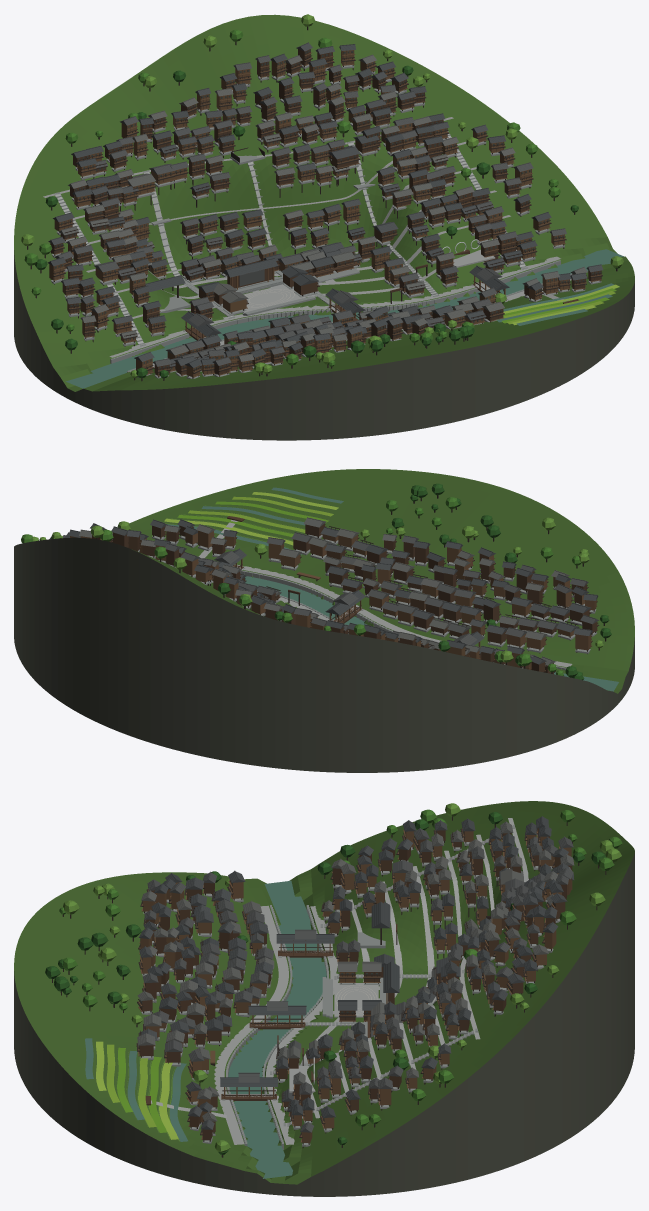
The model's file is xijiang-valley.glb.
3 views of the same model, one above another, from view 1: azimuth 30°, elevation 25°; view 2: azimuth 150°, elevation 25°; view 3: azimuth 270°, elevation 25° (orthographic). The views are drawn at different scales.
Parts seen in each view (by area): view 1: Earth • moss and soil.007, Cut earth • layered edge.007, Timber • warm variation.007, Timber • aged chestnut.007, Posts and balcony rails.007, River embankments • grey stone.007, Grey tile 0.007, Grey tile 2.007, Grey tile 1.007, Grey tile 3.007, Walking lanes • pale stone.007, Baishui River.007 (+9 smaller); view 2: Cut earth • layered edge.007, Earth • moss and soil.007, Timber • aged chestnut.007, Timber • warm variation.007, Grey tile 1.007, Grey tile 2.007, River embankments • grey stone.007, Grey tile 3.007, Grey tile 0.007, Baishui River.007, Forest 0.007, Forest 2.007 (+6 smaller); view 3: Earth • moss and soil.007, Cut earth • layered edge.007, Timber • warm variation.007, Timber • aged chestnut.007, Grey tile 0.007, Baishui River.007, Grey tile 1.007, Grey tile 2.007, Walking lanes • pale stone.007, Grey tile 3.007, River embankments • grey stone.007, Posts and balcony rails.007 (+9 smaller).
Boxes of the visible parts, x1=… form: Earth • moss and soil.007: x1=14, y1=14, x2=634, y2=391; Cut earth • layered edge.007: x1=14, y1=250, x2=634, y2=440; Timber • warm variation.007: x1=49, y1=50, x2=601, y2=377; Timber • aged chestnut.007: x1=50, y1=49, x2=601, y2=375; Posts and balcony rails.007: x1=27, y1=26, x2=617, y2=381; River embankments • grey stone.007: x1=51, y1=64, x2=601, y2=378; Grey tile 0.007: x1=47, y1=44, x2=571, y2=367; Grey tile 2.007: x1=59, y1=54, x2=587, y2=361; Grey tile 1.007: x1=54, y1=55, x2=566, y2=366; Grey tile 3.007: x1=48, y1=42, x2=603, y2=366; Walking lanes • pale stone.007: x1=43, y1=117, x2=571, y2=372; Baishui River.007: x1=66, y1=249, x2=623, y2=388; Cut earth • layered edge.007: x1=14, y1=537, x2=634, y2=772; Earth • moss and soil.007: x1=111, y1=469, x2=634, y2=693; Timber • aged chestnut.007: x1=109, y1=523, x2=597, y2=674; Timber • warm variation.007: x1=70, y1=526, x2=598, y2=671; Grey tile 1.007: x1=63, y1=532, x2=598, y2=654; Grey tile 2.007: x1=79, y1=517, x2=569, y2=665; River embankments • grey stone.007: x1=138, y1=534, x2=596, y2=670; Grey tile 3.007: x1=69, y1=519, x2=592, y2=664; Grey tile 0.007: x1=49, y1=523, x2=598, y2=654; Baishui River.007: x1=167, y1=487, x2=618, y2=691; Forest 0.007: x1=51, y1=483, x2=611, y2=680; Forest 2.007: x1=32, y1=505, x2=603, y2=662; Earth • moss and soil.007: x1=14, y1=801, x2=634, y2=1184; Cut earth • layered edge.007: x1=14, y1=853, x2=634, y2=1196; Timber • warm variation.007: x1=138, y1=828, x2=572, y2=1143; Timber • aged chestnut.007: x1=139, y1=828, x2=572, y2=1140; Grey tile 0.007: x1=143, y1=816, x2=574, y2=1117; Baishui River.007: x1=85, y1=880, x2=326, y2=1178; Grey tile 1.007: x1=143, y1=828, x2=573, y2=1132; Grey tile 2.007: x1=137, y1=821, x2=574, y2=1121; Walking lanes • pale stone.007: x1=151, y1=818, x2=528, y2=1144; Grey tile 3.007: x1=138, y1=820, x2=568, y2=1129; River embankments • grey stone.007: x1=140, y1=825, x2=560, y2=1149; Posts and balcony rails.007: x1=52, y1=816, x2=613, y2=1157.
Size of the model in its own units: 76 by 24.59 by 66.
